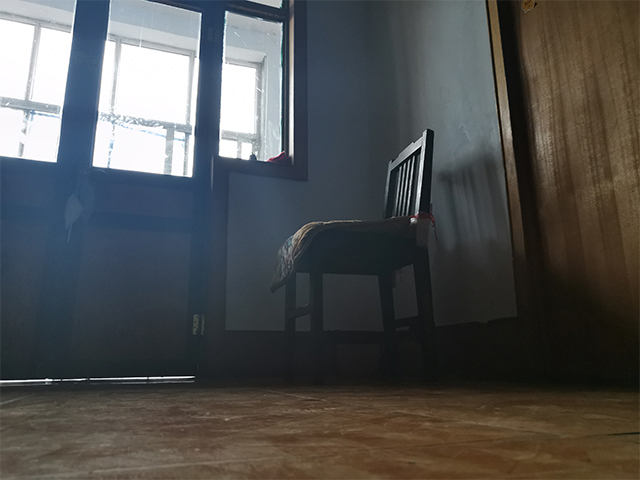stool: (278, 125, 444, 387)
